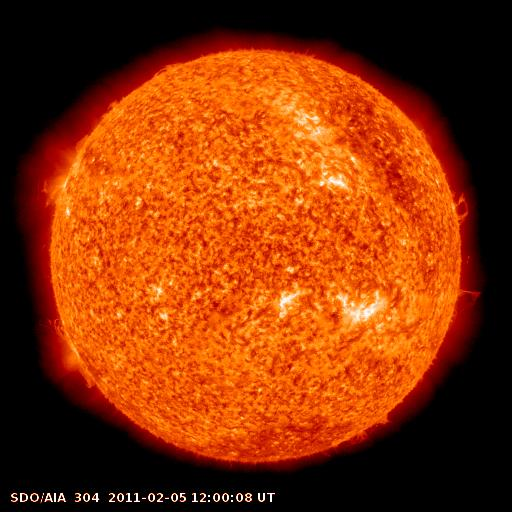prominence: (331, 405, 418, 456), (31, 165, 79, 224), (34, 309, 85, 355), (448, 261, 487, 320), (443, 177, 475, 229), (148, 54, 188, 82)
